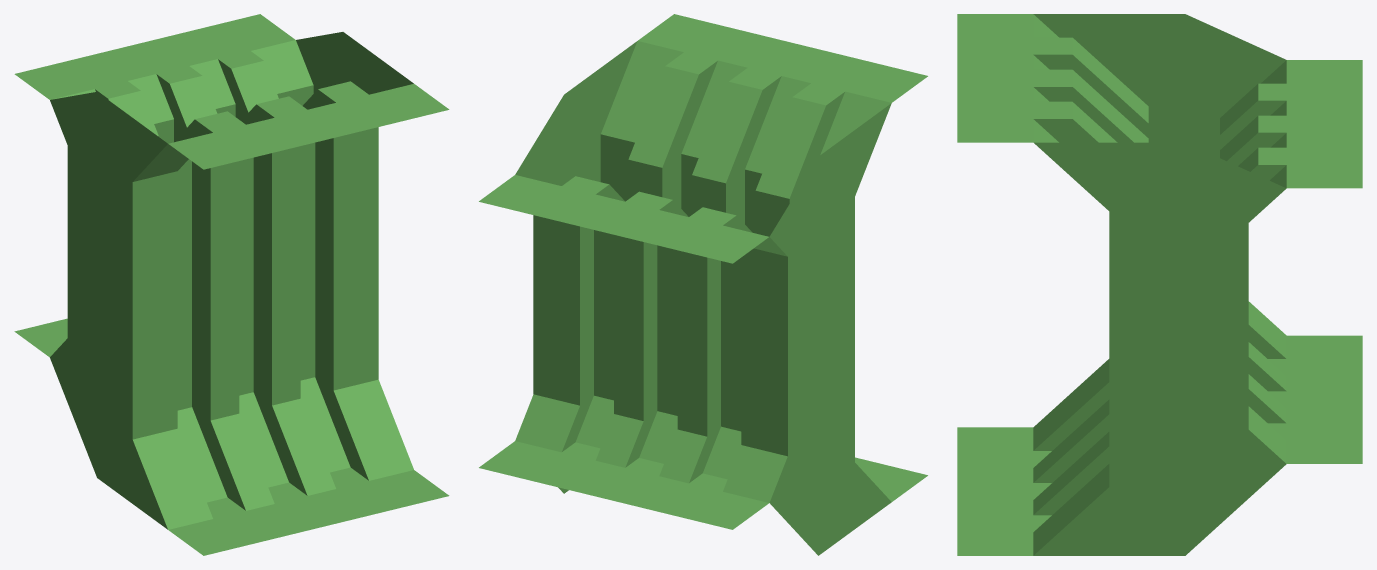
Rendered from TranziteWall_A_Line.FBX.
3 views of the same model, side by side, from view 1: azimuth 30°, elevation 25°; view 2: azimuth 150°, elevation 25°; view 3: azimuth 270°, elevation 25° (orthographic). The views are drawn at different scales.
Parts seen in each view (by area): view 1: TranziteWall_A_Line; view 2: TranziteWall_A_Line; view 3: TranziteWall_A_Line.
Part boxes in pixels (bbox=[...]): TranziteWall_A_Line: bbox=[14, 14, 449, 555]; TranziteWall_A_Line: bbox=[479, 14, 927, 555]; TranziteWall_A_Line: bbox=[957, 14, 1362, 555].
Bounding box in the file's own units: 300 × 450 × 400.
